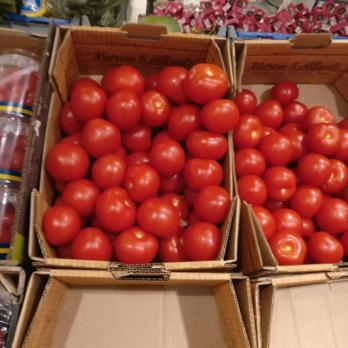Tomato: (72, 66, 227, 257), (245, 80, 348, 269)
